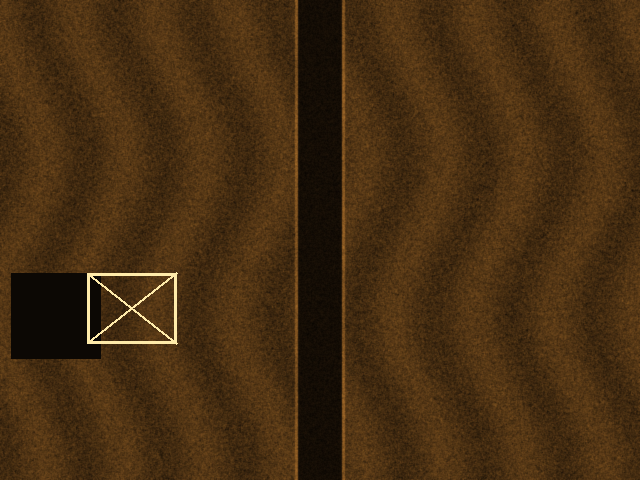Abandoned Equipment: (87, 273, 176, 343)
